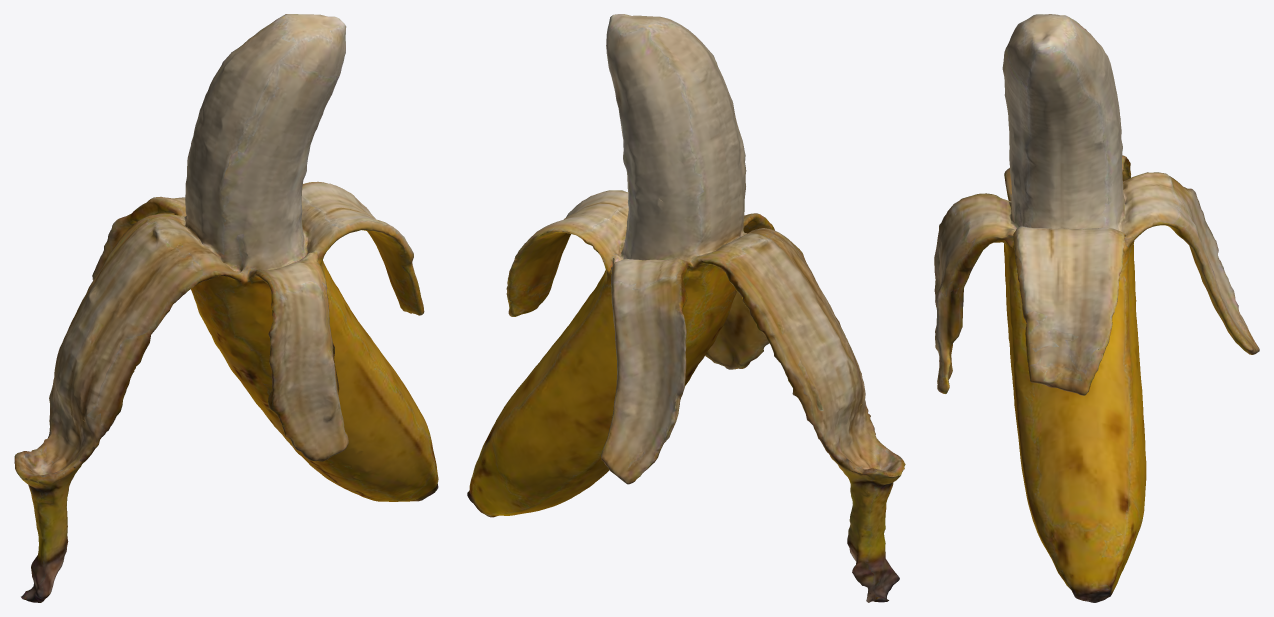
Rendered from banane.glb.
3 renders of one model, left to right at view 1: azimuth 30°, elevation 25°; view 2: azimuth 150°, elevation 25°; view 3: azimuth 270°, elevation 25°, orthographic. The views are drawn at different scales.
Bounding box in the file's own units: 0.1351 × 0.16 × 0.0911.
Materials: 1 (1 with a texture image).
